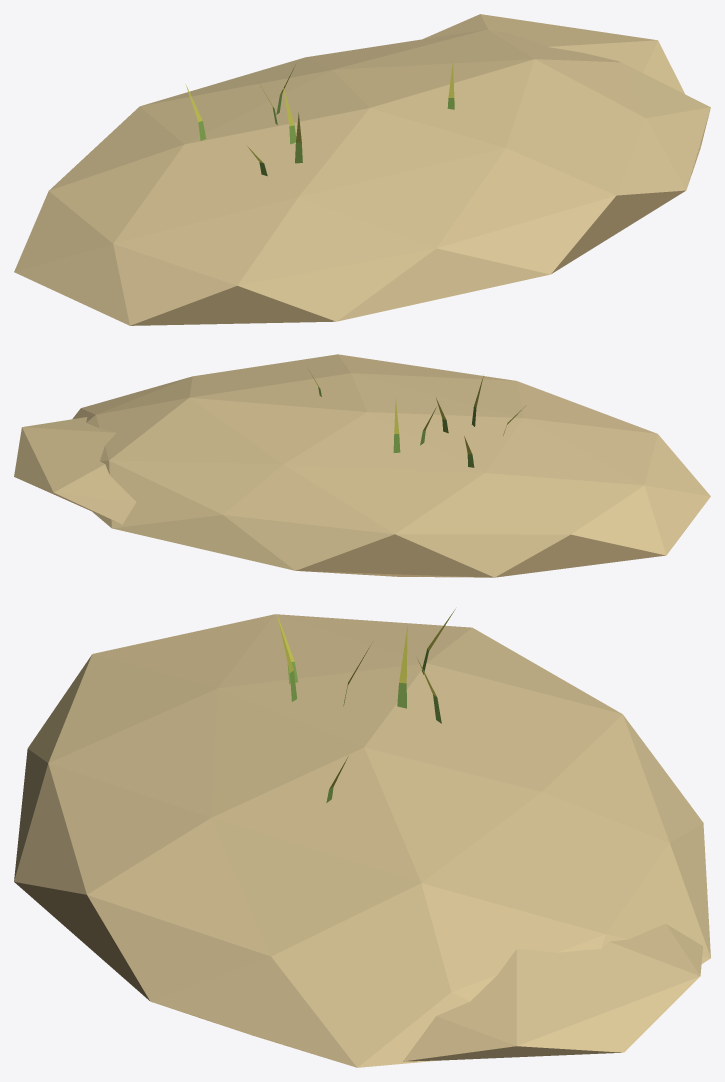
File: sand_dune_patch.glb
3 renders of one model, top to bottom at view 1: azimuth 30°, elevation 25°; view 2: azimuth 150°, elevation 25°; view 3: azimuth 270°, elevation 25°, orthographic. The views are drawn at different scales.
Parts seen in each view (by area): view 1: Body; view 2: Body; view 3: Body.
Boxes of the visible parts, left/top/right/bottom form: Body: left=14, top=14, right=710, bottom=325; Body: left=14, top=354, right=710, bottom=577; Body: left=14, top=609, right=710, bottom=1067.
Size of the model in its own units: 4.85 by 0.8327 by 3.2.
